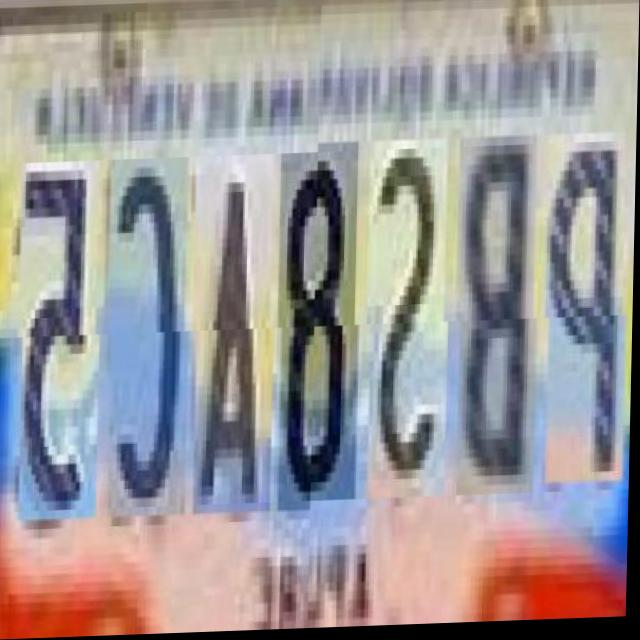5: (17, 160, 100, 521)
8: (276, 153, 360, 513)
a: (191, 155, 274, 516)
b: (455, 148, 537, 508)
c: (106, 158, 189, 518)
p: (544, 146, 627, 497)
s: (365, 150, 449, 511)
